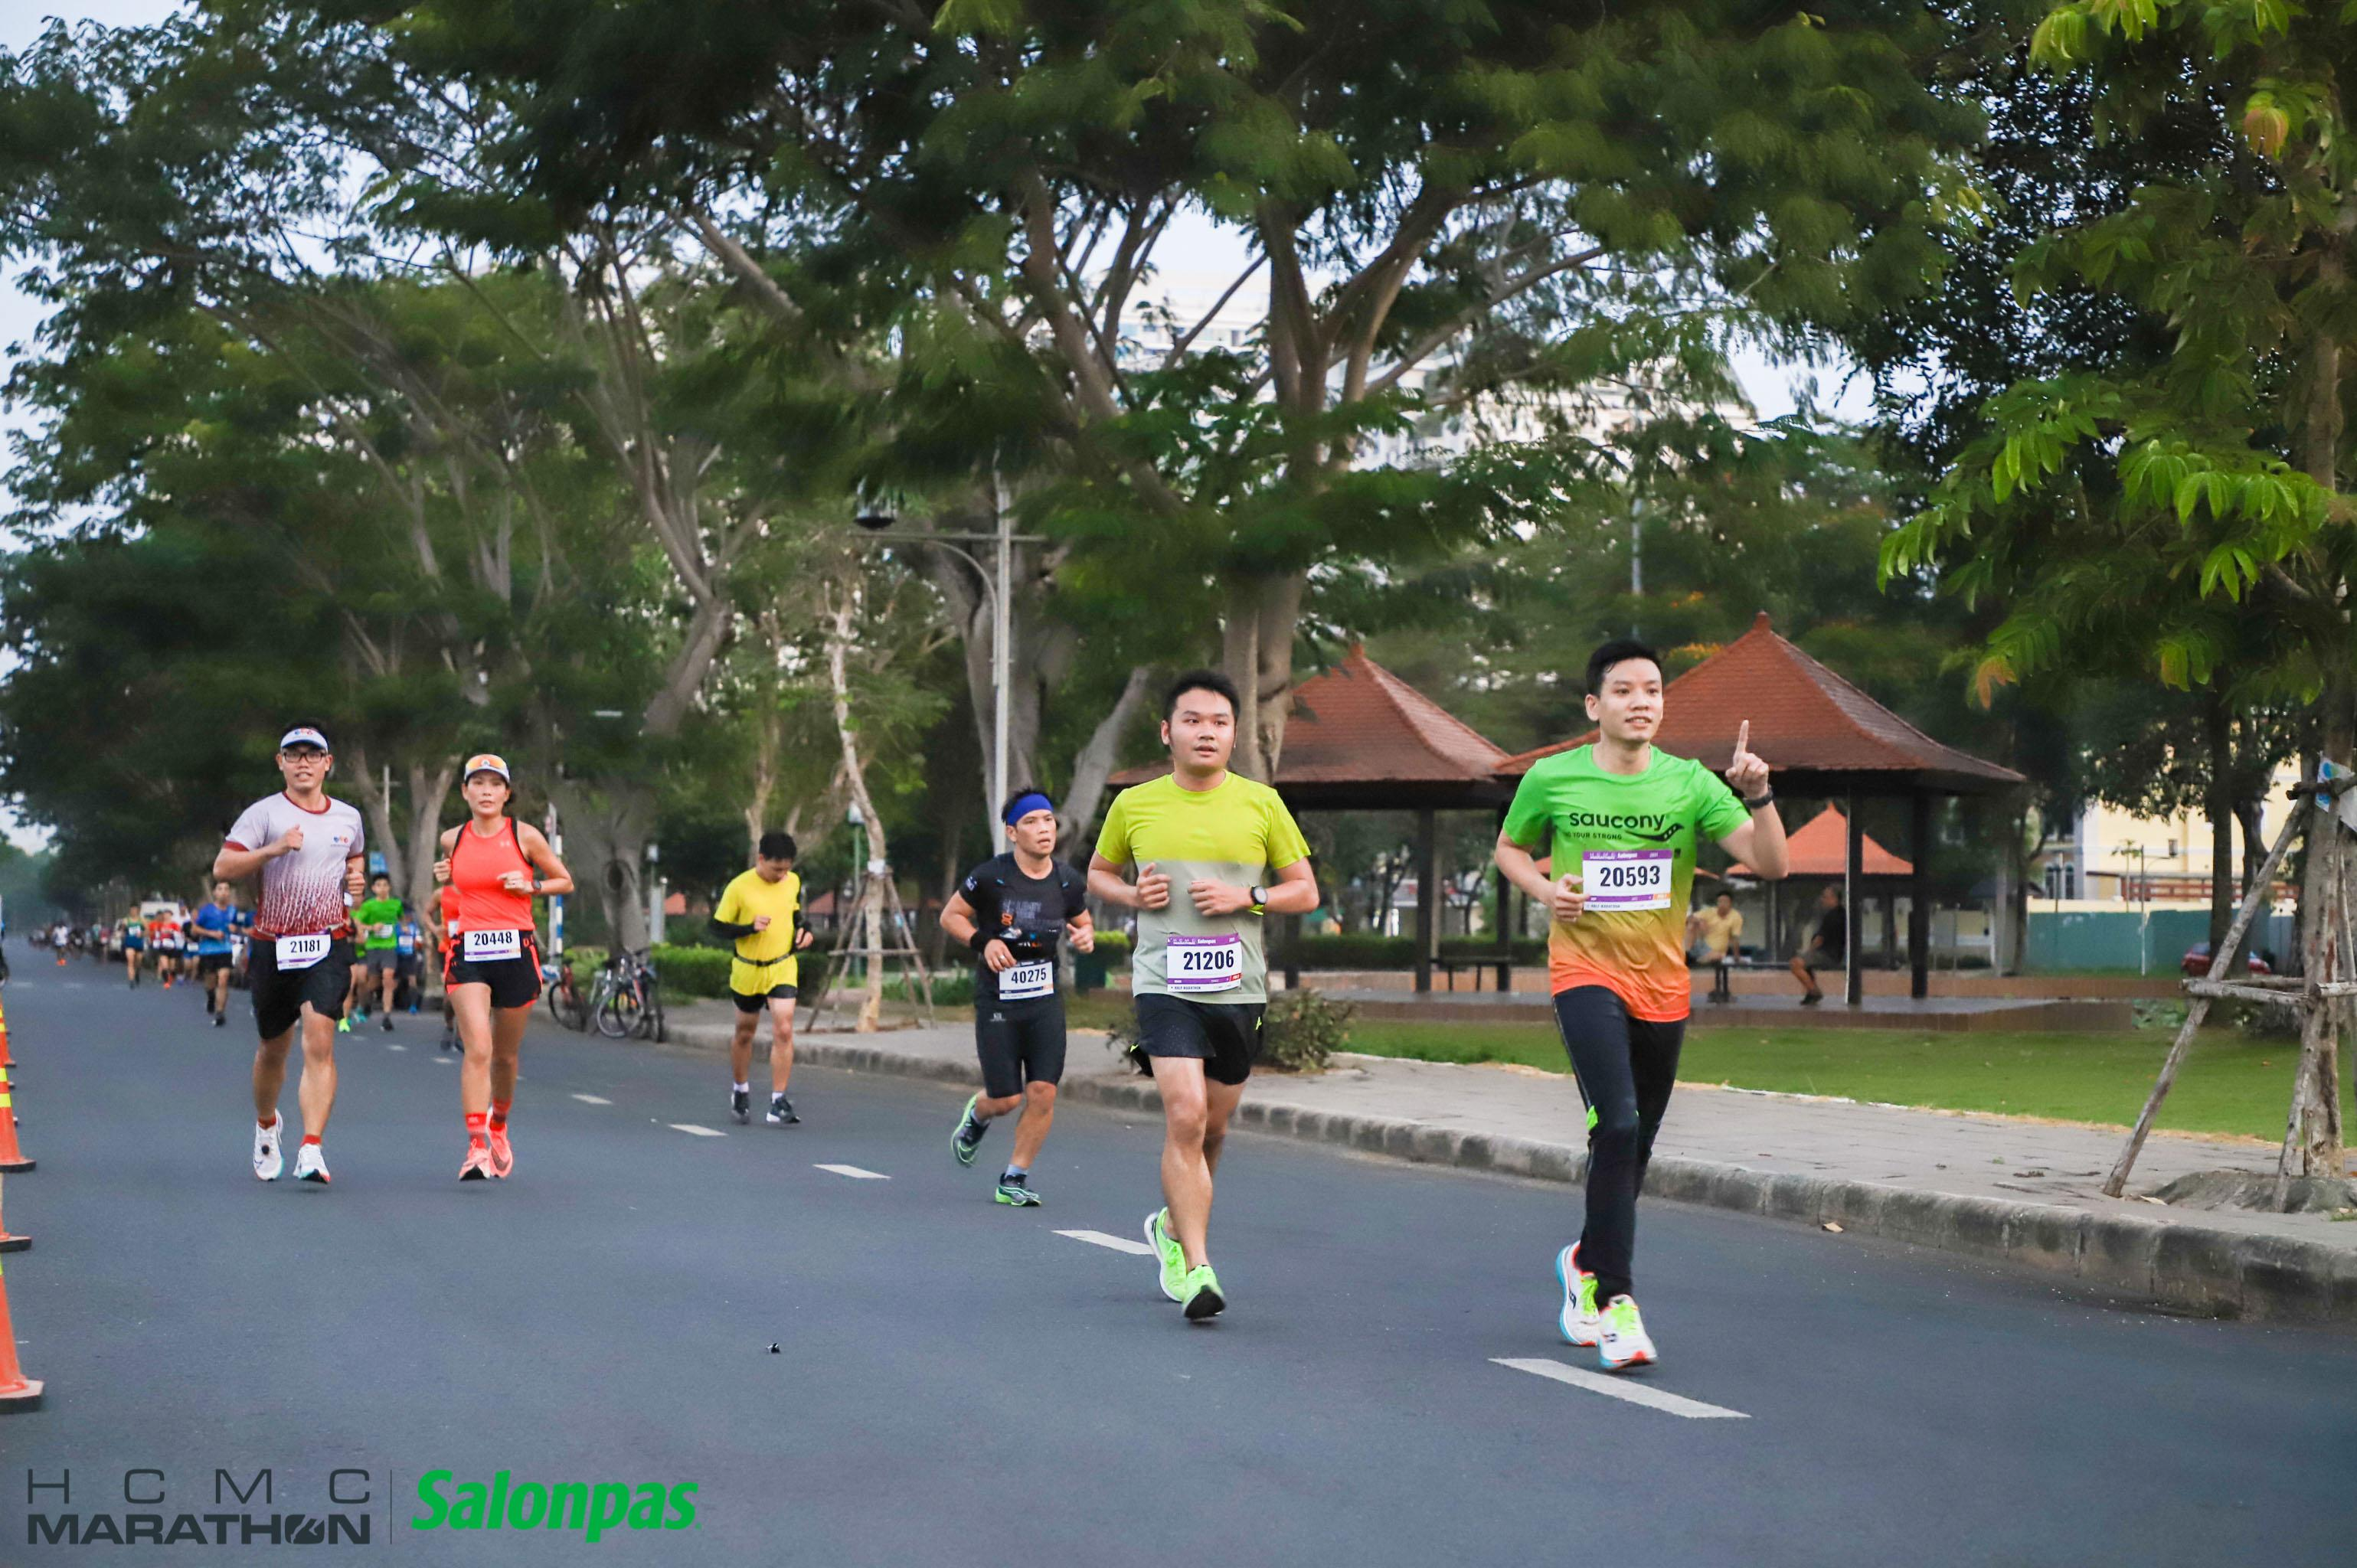bib: (1578, 847, 1675, 910), (1169, 938, 1242, 992), (276, 933, 331, 973), (1001, 961, 1055, 997), (460, 931, 523, 959)
